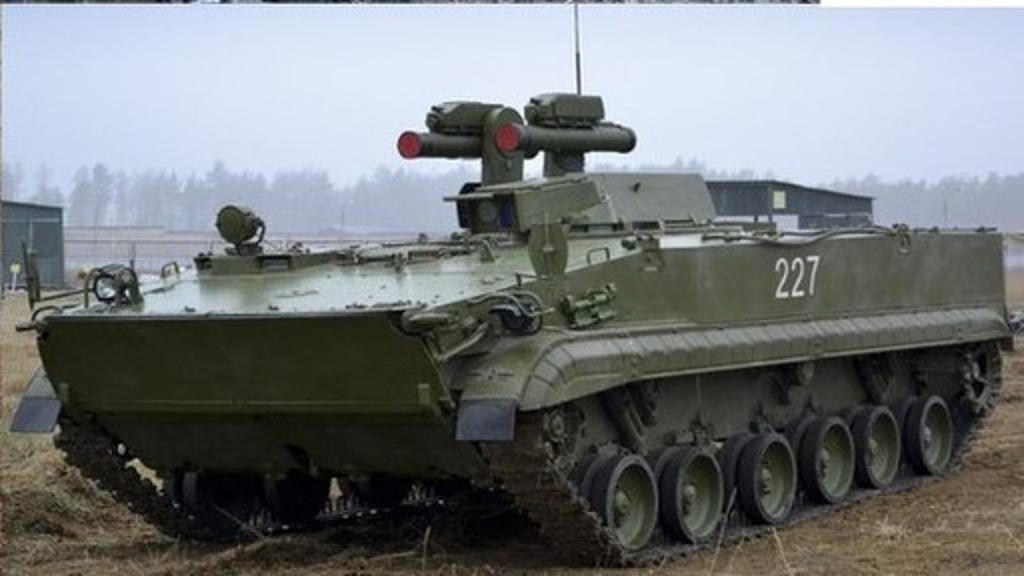APC-IFV: (8, 78, 1014, 568)
